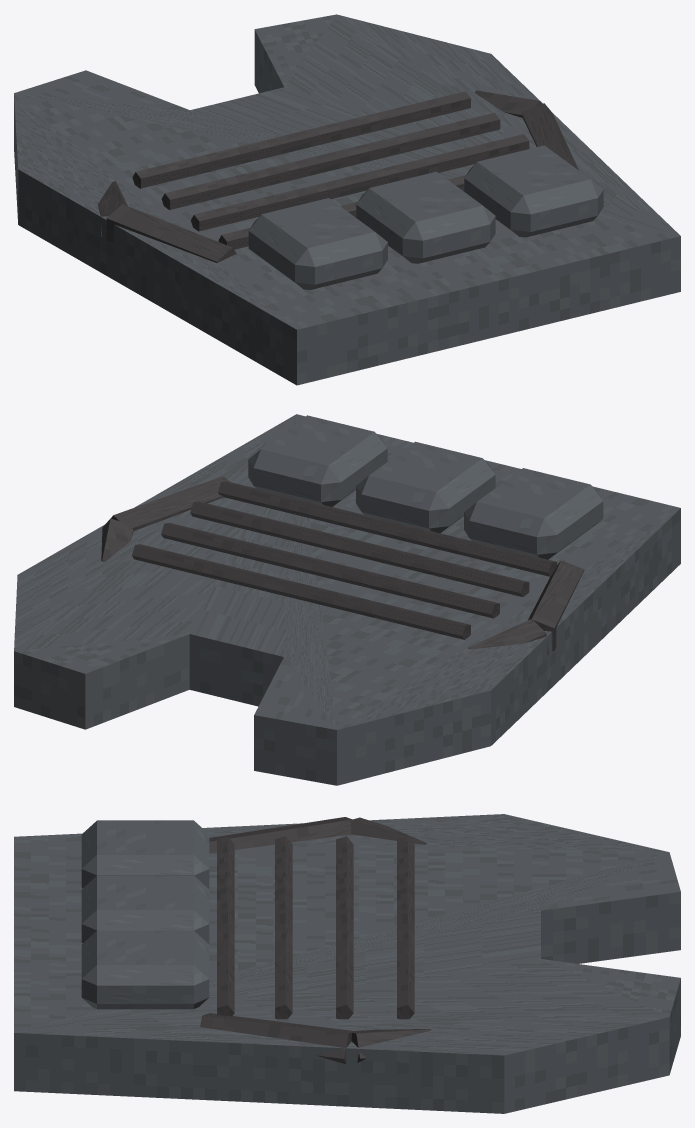
The model's file is load_bearing_vest.glb.
3 renders of one model, top to bottom at view 1: azimuth 30°, elevation 25°; view 2: azimuth 150°, elevation 25°; view 3: azimuth 270°, elevation 25°, orthographic. The views are drawn at different scales.
Visible parts, largest first — view 1: block_vest body, block_front utility compartment (×3), block_webbing row 0 (×4), block_adjustment strap 1 (×2), block_adjustment strap 0 (×2); view 2: block_vest body, block_front utility compartment (×3), block_webbing row 0 (×4), block_adjustment strap 1 (×2), block_adjustment strap 0 (×2); view 3: block_vest body, block_front utility compartment (×3), block_webbing row 0 (×4), block_adjustment strap 1 (×2), block_adjustment strap 0 (×2).
Part boxes in pixels (bbox=[...]): block_vest body: bbox=[14, 14, 680, 385]; block_front utility compartment (×3): bbox=[248, 145, 603, 289]; block_webbing row 0 (×4): bbox=[132, 91, 529, 249]; block_adjustment strap 1 (×2): bbox=[106, 103, 578, 262]; block_adjustment strap 0 (×2): bbox=[97, 90, 541, 236]; block_vest body: bbox=[14, 414, 680, 785]; block_front utility compartment (×3): bbox=[248, 415, 603, 559]; block_webbing row 0 (×4): bbox=[132, 481, 556, 639]; block_adjustment strap 1 (×2): bbox=[111, 476, 584, 651]; block_adjustment strap 0 (×2): bbox=[101, 518, 548, 655]; block_vest body: bbox=[14, 814, 680, 1113]; block_front utility compartment (×3): bbox=[81, 820, 209, 1009]; block_webbing row 0 (×4): bbox=[217, 836, 414, 1019]; block_adjustment strap 1 (×2): bbox=[200, 817, 354, 1064]; block_adjustment strap 0 (×2): bbox=[351, 817, 431, 1062].
Bounding box in the file's own units: 0.2271 × 0.044 × 0.265.
Materials: 1 (1 with a texture image).
